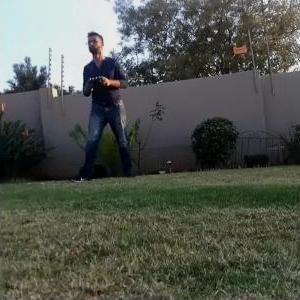follow: (67, 23, 138, 188)
